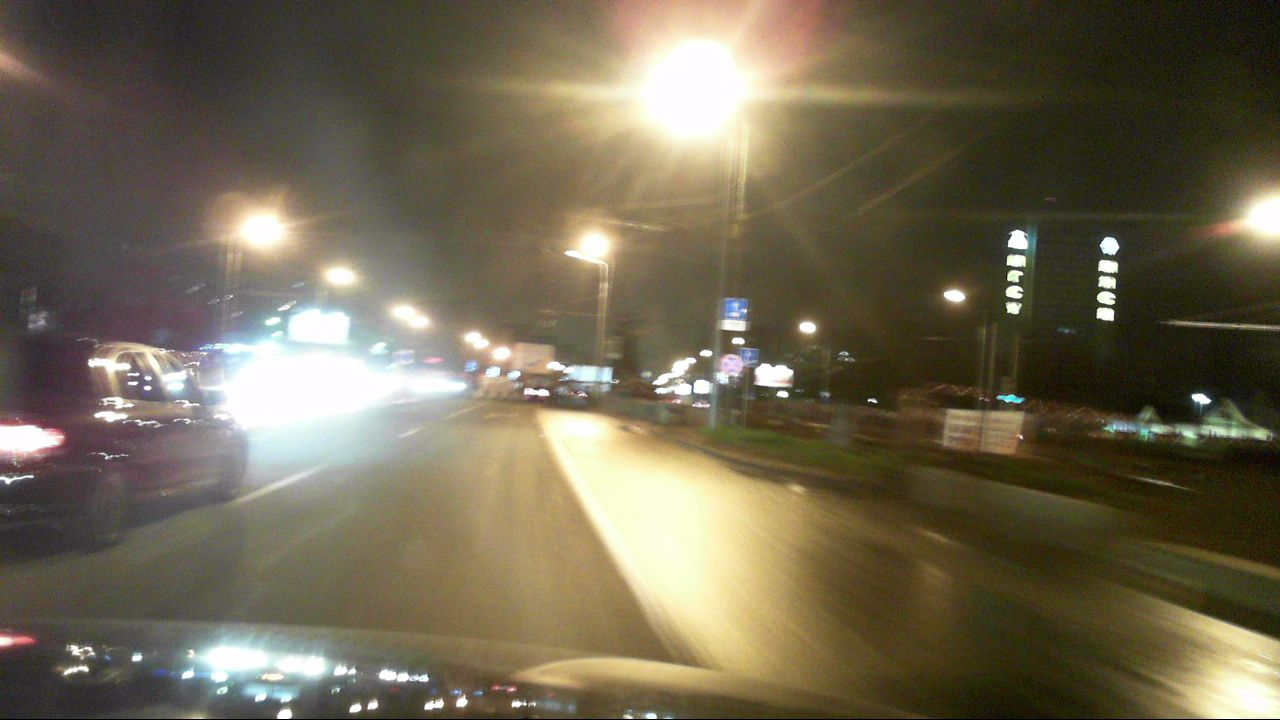No Parking: (722, 352, 742, 374)
